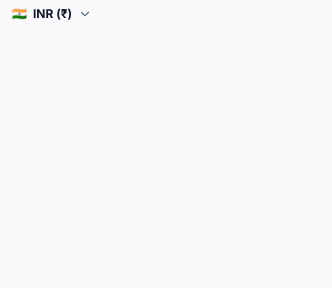
Scenario: CurrencySelect Component › strictly excludes the selected currency for every supported currency
Later steps or results of the test are not shown.
Click the button.
click(52, 14)  # box left=12, top=6, right=92, bottom=22
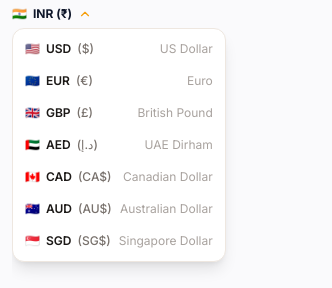
Expected: the option does not show "INR"
Expected: the number of options is 7
